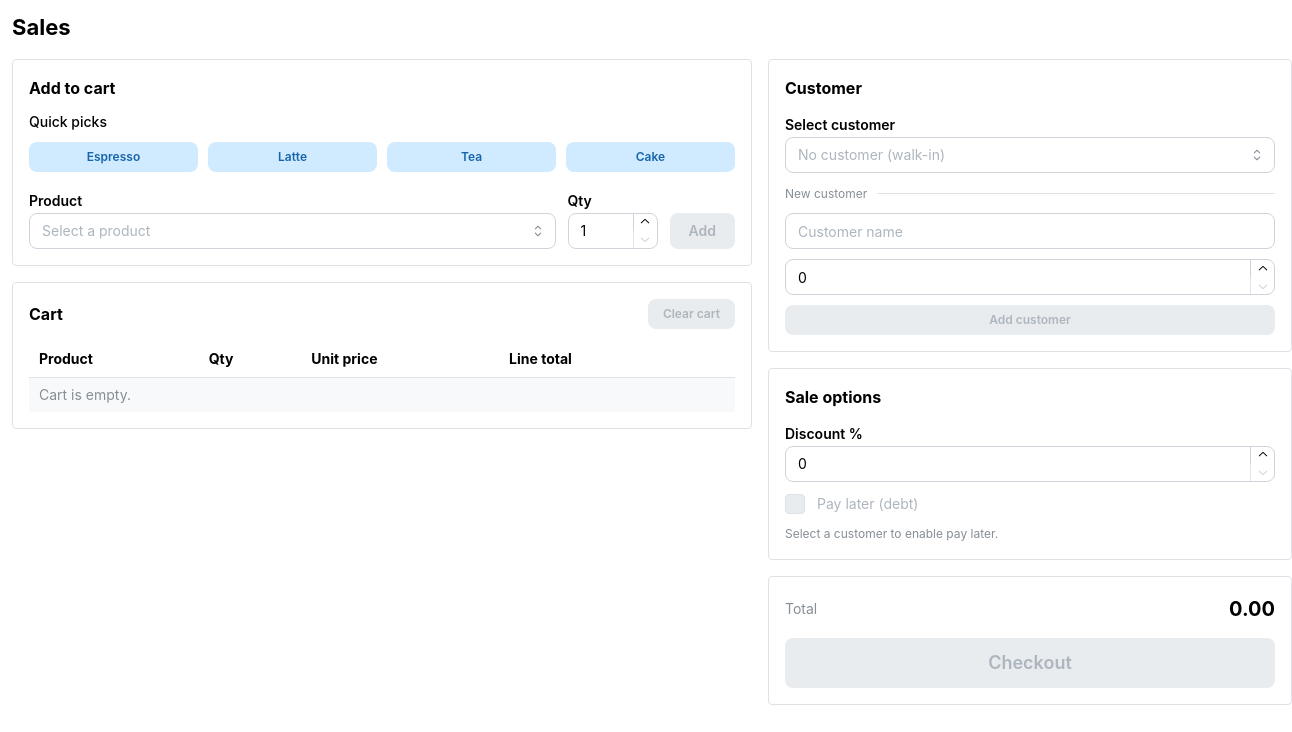
Test: SalesPage › supports cashier-friendly quick add, inline cart quantity editing, and clear cart
Click the button with aria-label "Quick add Espresso".
click(114, 157)  # box top-left (29, 142), bottom-right (198, 172)
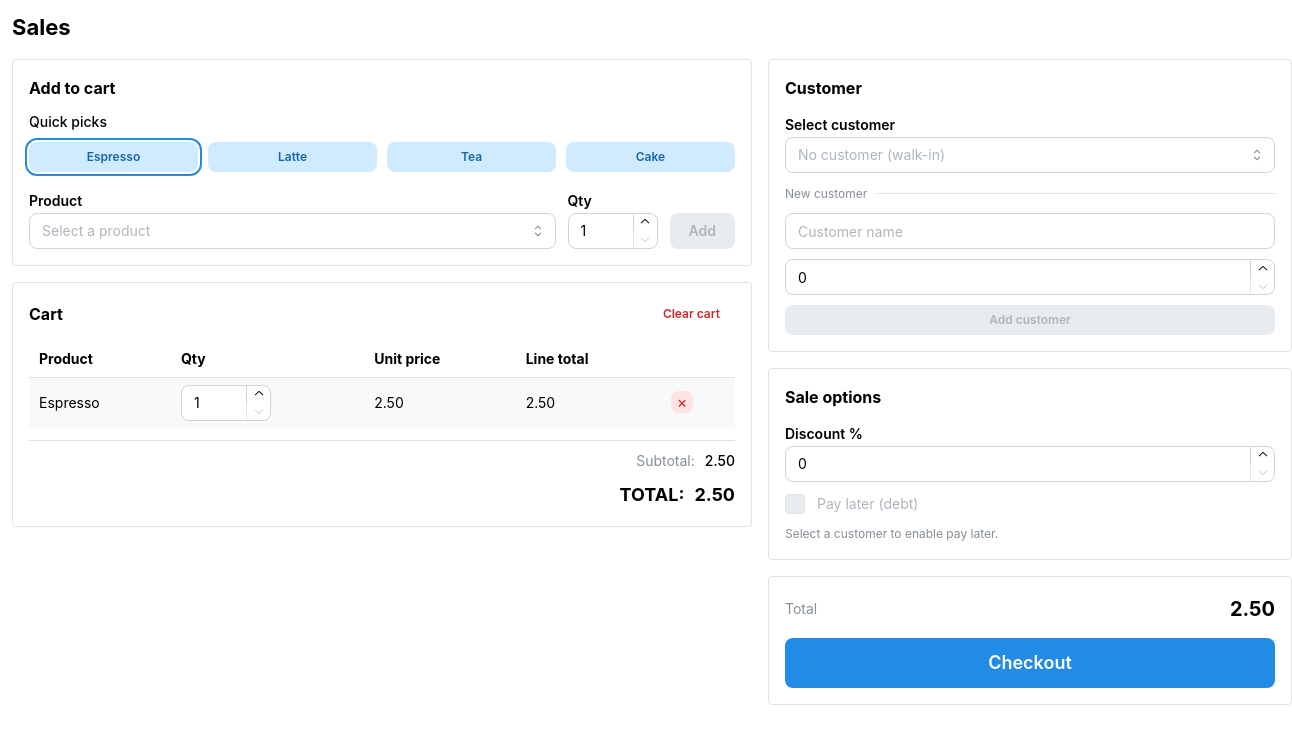
Expected: the text "Espresso" is shown, top-left (29, 377), bottom-right (171, 428)
Expected: the text "2.50" is shown 2 times, top-left (364, 377), bottom-right (516, 428); top-left (516, 377), bottom-right (661, 428)
Replace the text in the field named "Quantity for Espresso" with "3" at [226, 403], box top-left (181, 385), bottom-right (271, 421)
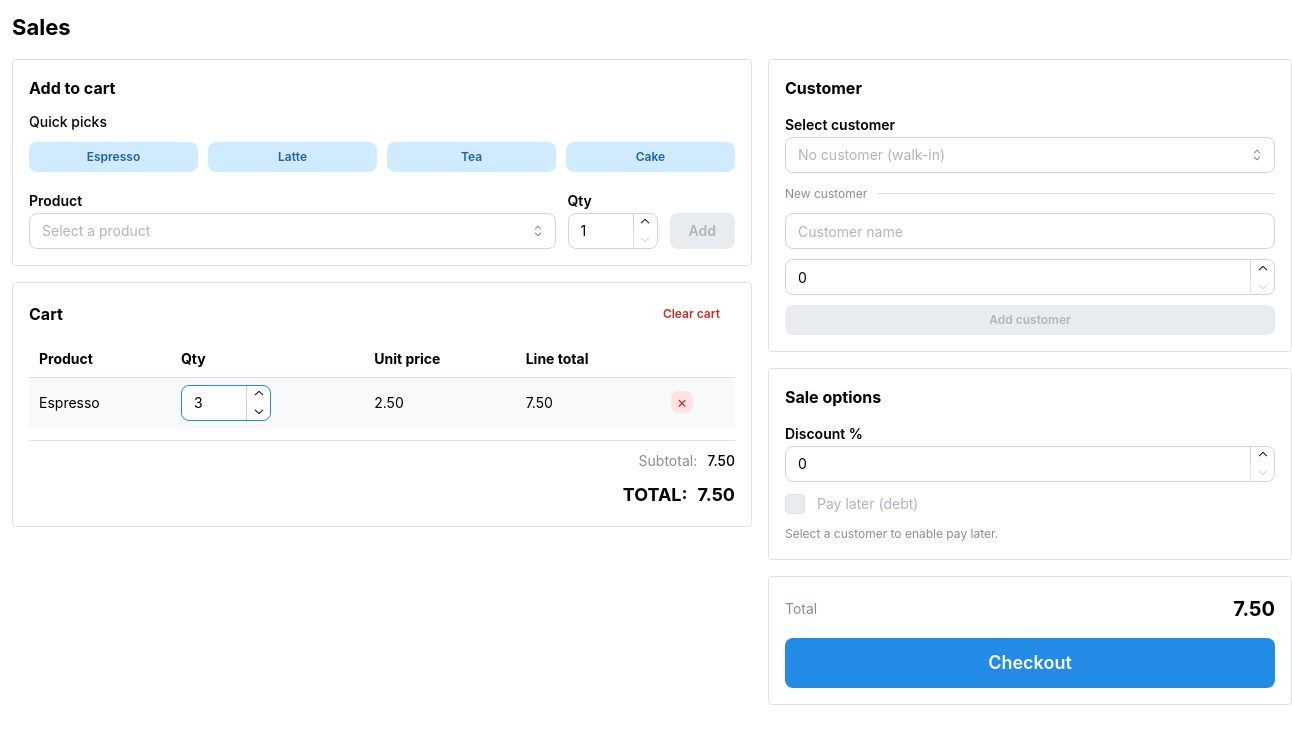
Expected: the text "7.50" is shown, top-left (516, 377), bottom-right (661, 428)
Click the button "Clear cart".
click(691, 314)  # box top-left (648, 299), bottom-right (735, 329)
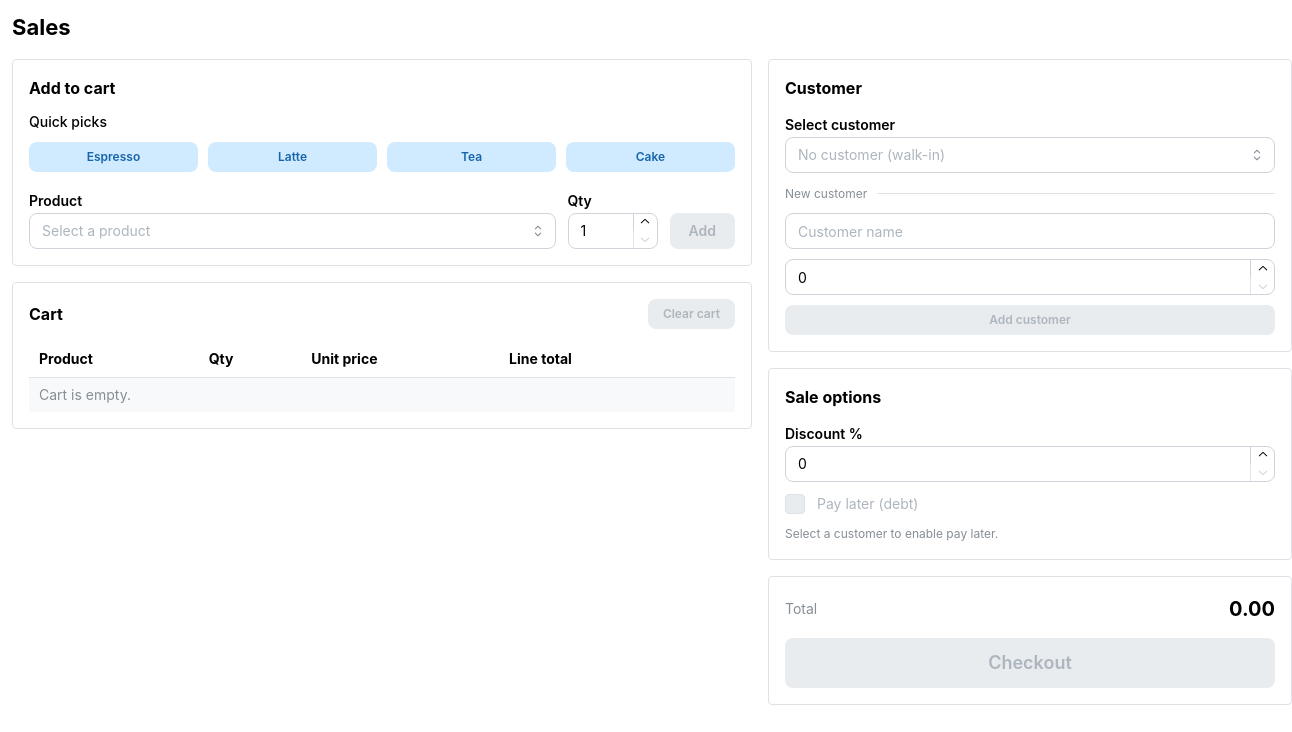
Expected: the text "Cart is empty." is shown, top-left (39, 386), bottom-right (131, 403)
